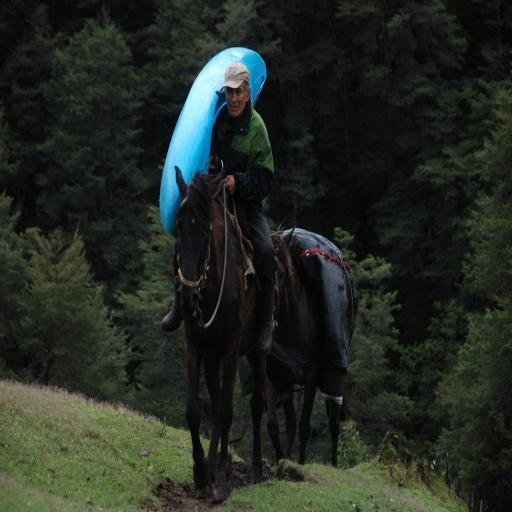horse: (176, 162, 266, 506), (264, 224, 362, 466)
